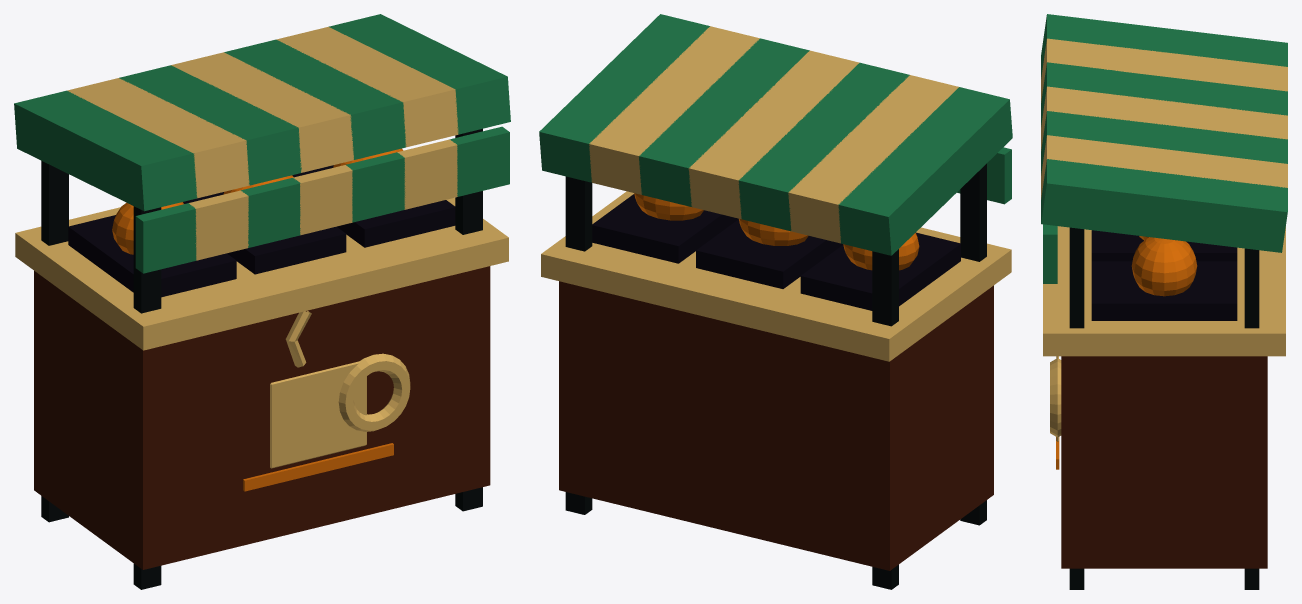
File: market_stall.fbx
3 renders of one model, left to right at view 1: azimuth 30°, elevation 25°; view 2: azimuth 150°, elevation 25°; view 3: azimuth 270°, elevation 25°, orthographic. The views are drawn at different scales.
Parts seen in each view (by area): view 1: Part_4, Part_2, Part_5, Part_3; view 2: Part_4, Part_2, Part_5; view 3: Part_4, Part_3, Part_5, Part_2.
Part boxes in pixels (box(x1,y1,x2,y2)): Part_4: box(14, 14, 510, 518); Part_2: box(34, 161, 490, 589); Part_5: box(134, 128, 508, 584); Part_3: box(455, 133, 482, 511); Part_4: box(539, 14, 1012, 587); Part_2: box(559, 170, 993, 589); Part_5: box(541, 163, 1010, 522); Part_4: box(1041, 14, 1287, 587); Part_3: box(1061, 228, 1267, 589); Part_5: box(1043, 226, 1285, 585); Part_2: box(1050, 356, 1061, 469).
Bounding box in the file's own units: 3.62 × 4.11 × 2.23.
